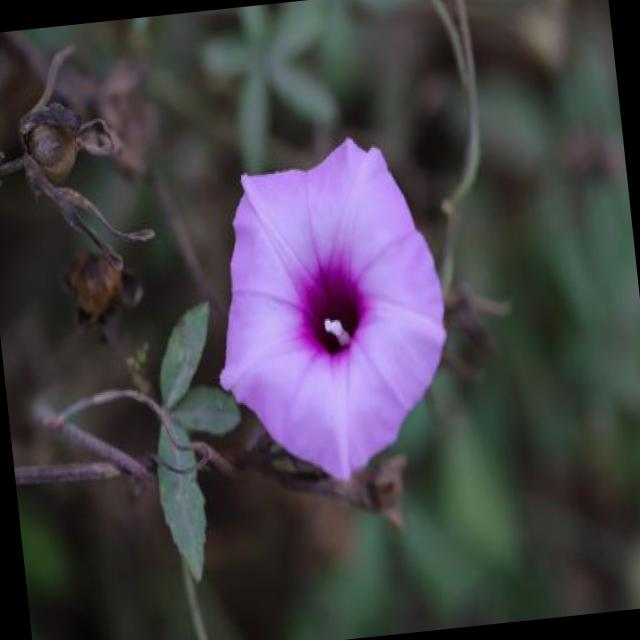ipomoea: (192, 124, 466, 497)
